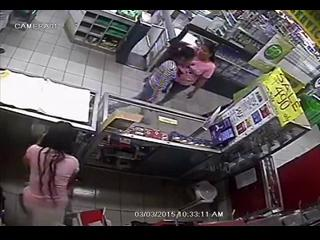Normal: (20, 122, 81, 226), (131, 39, 217, 106)
